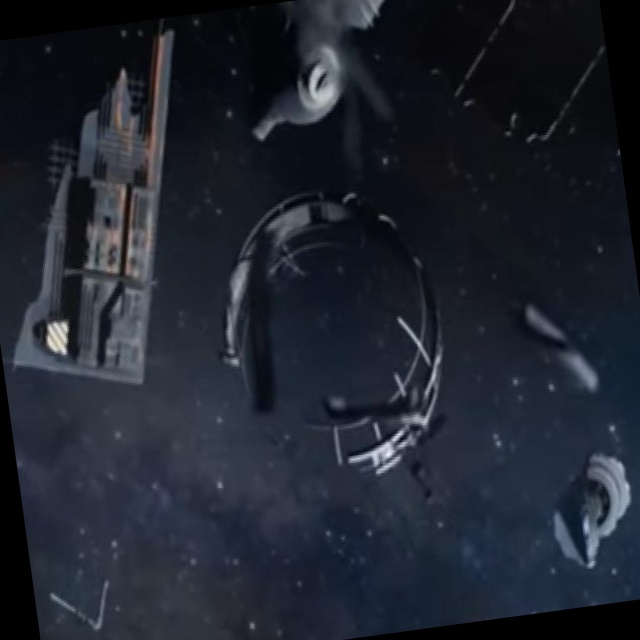large_debris: (195, 166, 478, 508), (0, 16, 231, 421), (424, 0, 622, 186), (225, 0, 418, 162), (540, 435, 640, 583), (501, 283, 607, 418), (43, 567, 124, 640)
